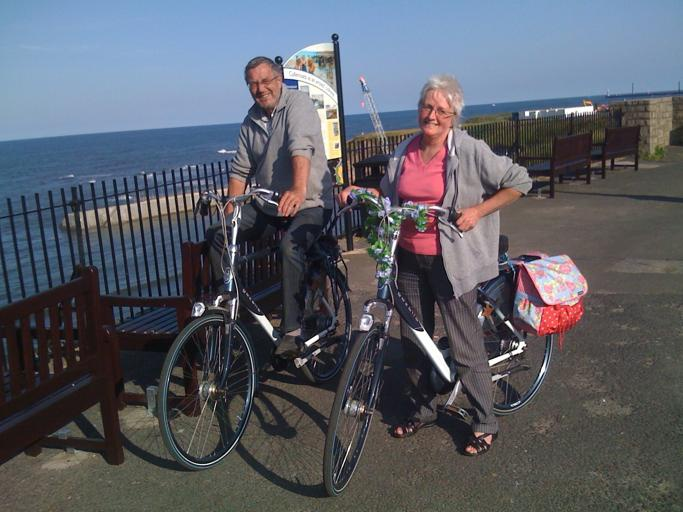non-vehicle: (320, 189, 553, 498), (155, 189, 352, 470)
